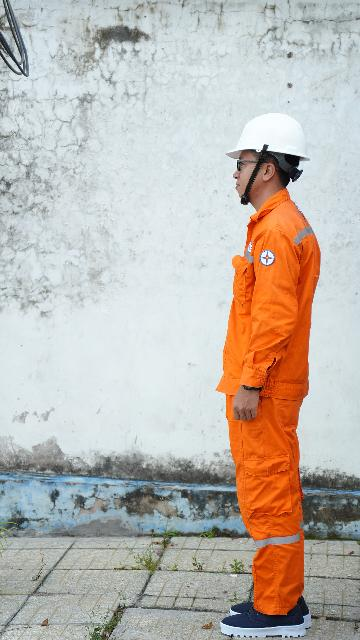helmet: (218, 104, 336, 170)
shoes: (204, 598, 327, 640), (214, 594, 333, 628)
